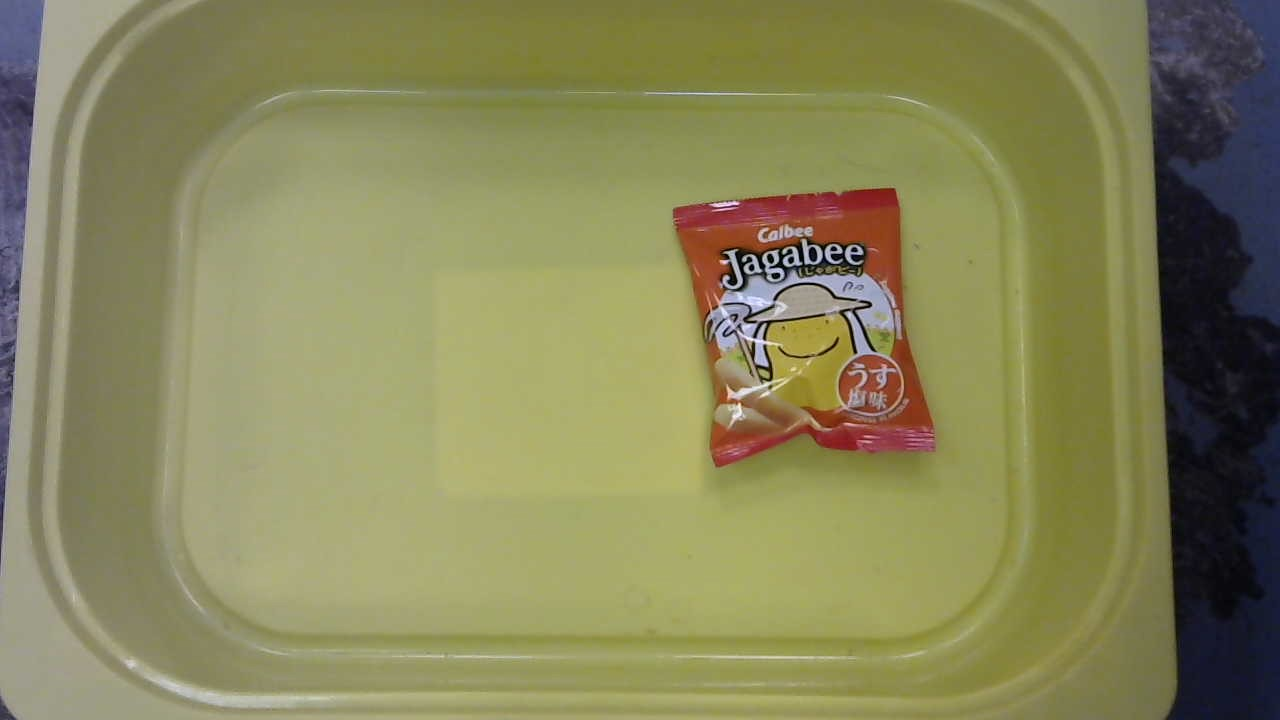JagabeeFarmer: (660, 185, 943, 467)
